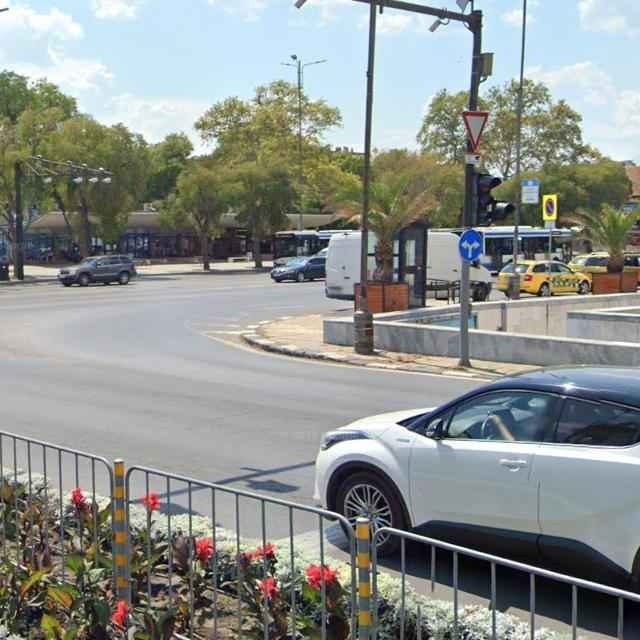prio_give_way: (459, 109, 492, 153)
